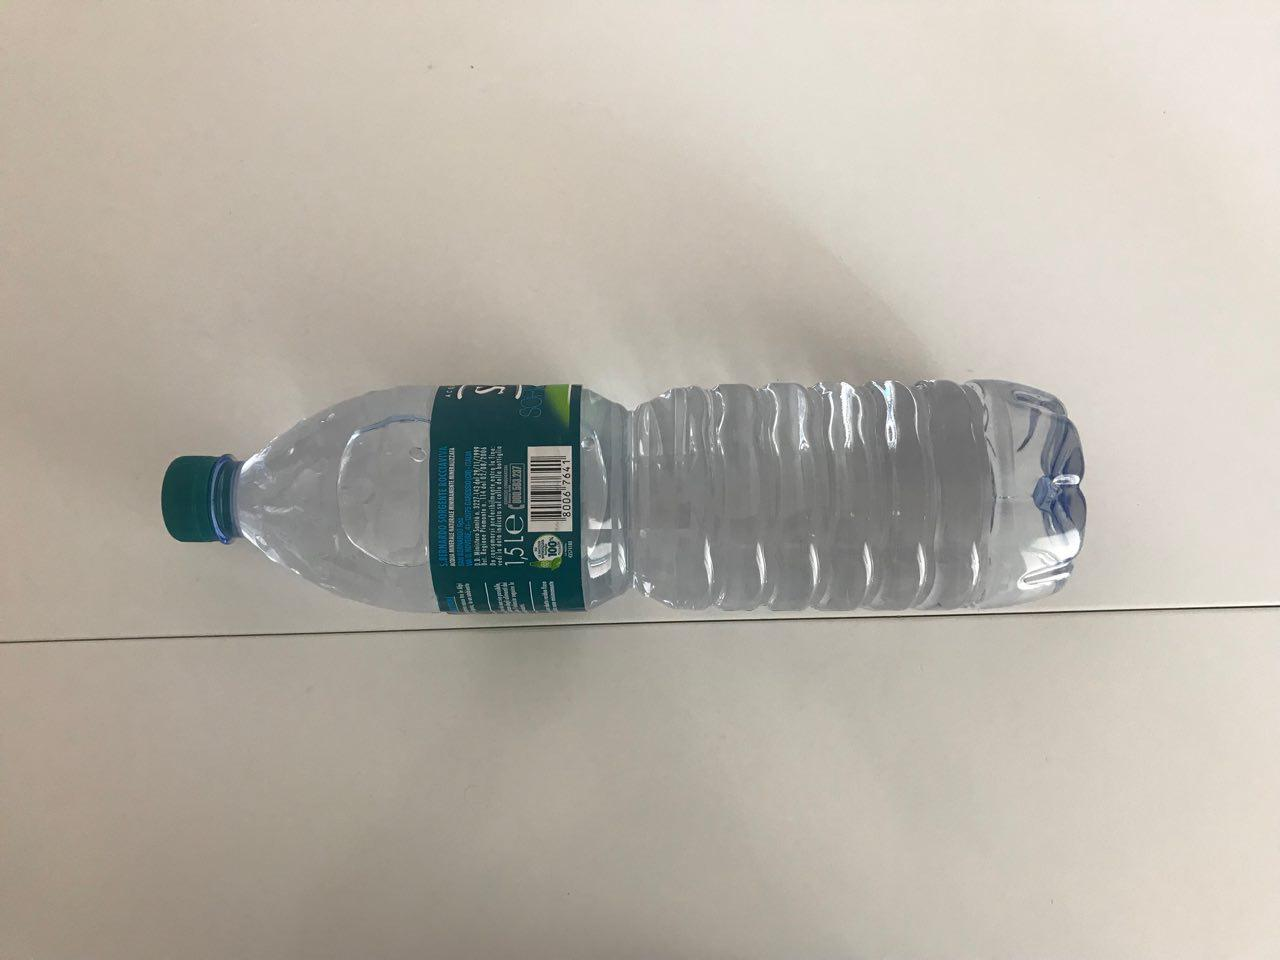san_bernardo: (159, 377, 1089, 615)
